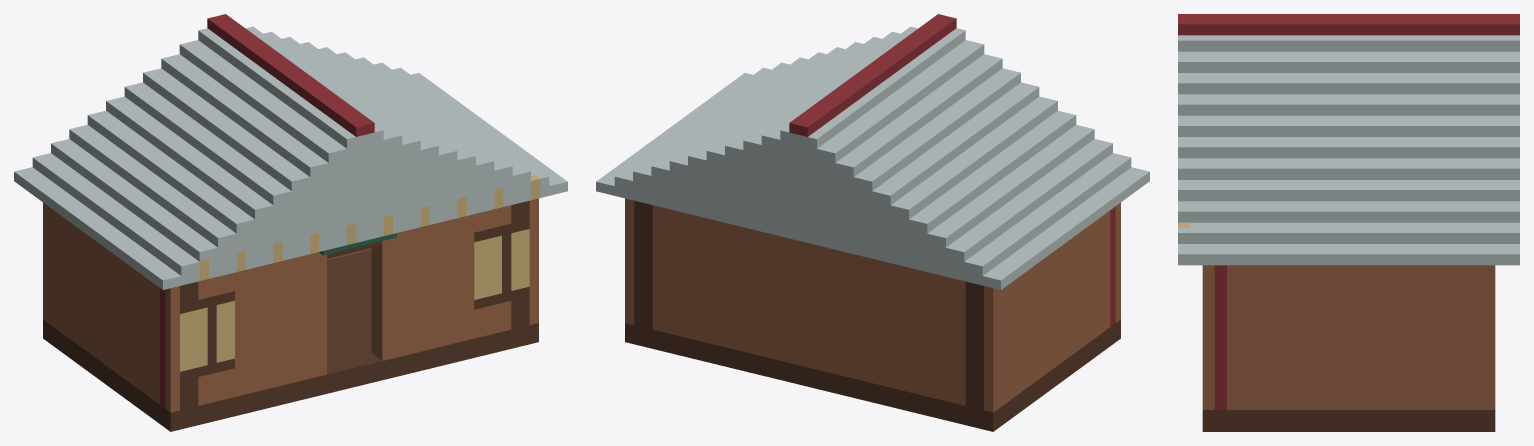
File: workshop.glb
3 views of the same model, side by side, from view 1: azimuth 30°, elevation 25°; view 2: azimuth 150°, elevation 25°; view 3: azimuth 270°, elevation 25° (orthographic). The views are drawn at different scales.
Visible parts, largest first — view 1: Shell; view 2: Shell; view 3: Shell.
Part boxes in pixels (x1,y1,x2,y2): Shell: (14, 14, 567, 431); Shell: (596, 14, 1149, 431); Shell: (1178, 14, 1519, 431).
Size of the model in its own units: 5.5 by 3.5 by 3.5.
